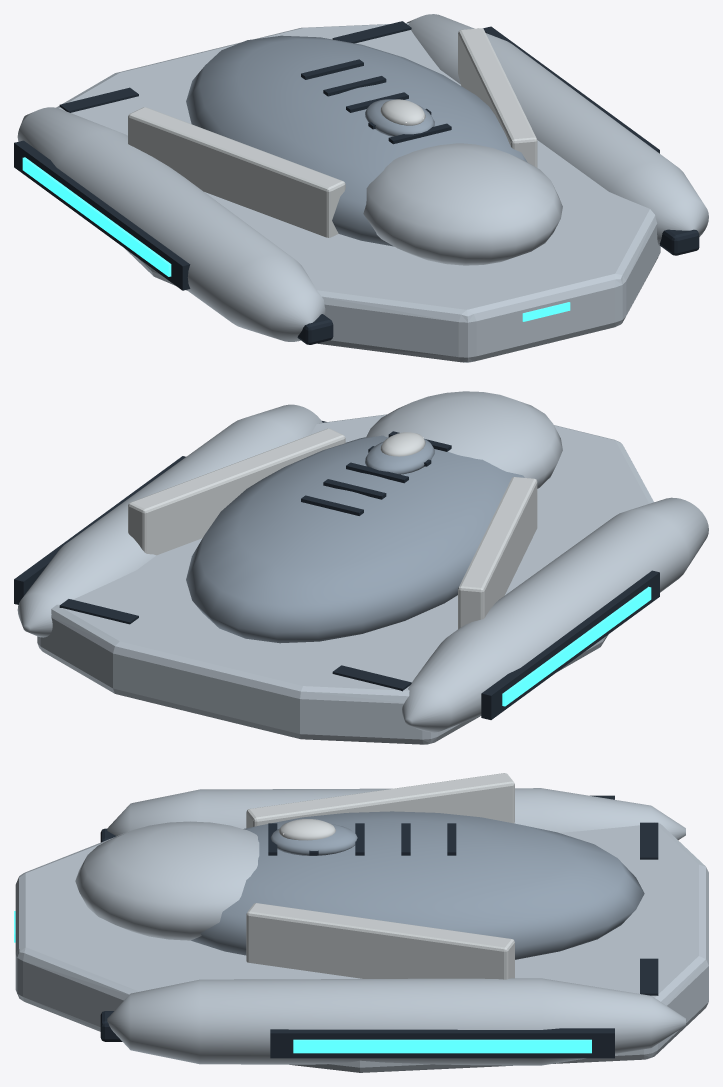
Rendered from compact-escort_LOD0.fbx.
The picture shows the model from 3 angles, top to bottom: view 1: azimuth 30°, elevation 25°; view 2: azimuth 150°, elevation 25°; view 3: azimuth 270°, elevation 25°; orthographic projection. The views are drawn at different scales.
Visible parts, largest first — view 1: compact-escort_Hull_LOD0, compact-escort_PortNacelle_LOD0, compact-escort_StarboardNacelle_LOD0; view 2: compact-escort_Hull_LOD0, compact-escort_PortNacelle_LOD0, compact-escort_StarboardNacelle_LOD0; view 3: compact-escort_Hull_LOD0, compact-escort_StarboardNacelle_LOD0, compact-escort_PortNacelle_LOD0.
Part boxes in pixels (x1,y1,x2,y2): compact-escort_Hull_LOD0: (56, 21, 699, 362); compact-escort_PortNacelle_LOD0: (14, 107, 325, 341); compact-escort_StarboardNacelle_LOD0: (406, 14, 708, 246); compact-escort_Hull_LOD0: (37, 391, 653, 744); compact-escort_PortNacelle_LOD0: (402, 497, 708, 732); compact-escort_StarboardNacelle_LOD0: (14, 404, 322, 637); compact-escort_Hull_LOD0: (15, 773, 708, 1072); compact-escort_StarboardNacelle_LOD0: (107, 978, 685, 1065); compact-escort_PortNacelle_LOD0: (107, 788, 685, 840).
Size of the model in its own units: 13917 by 3837 by 17000.
